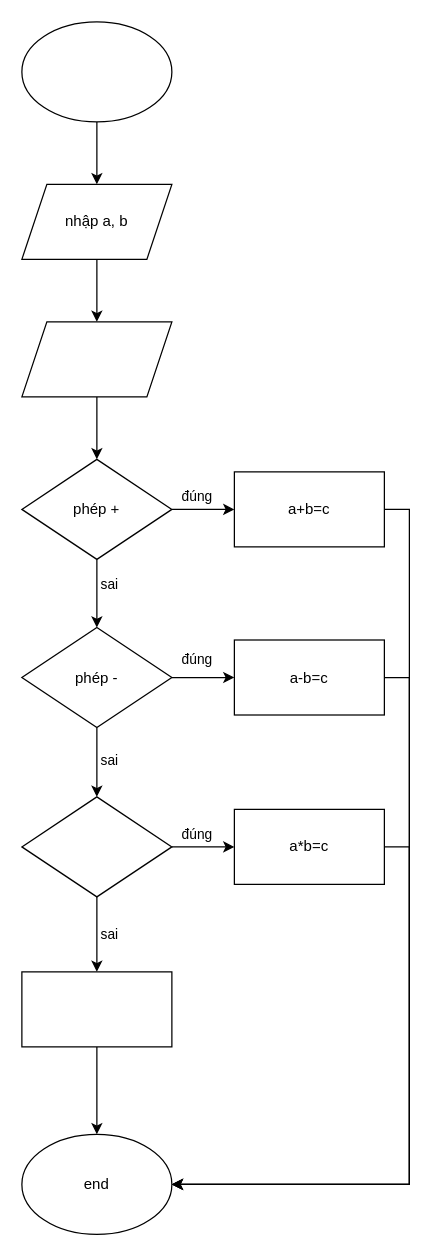
Some shapes in this 441 by 1256 pixel diagram are drawn without their labels. Each missing label, with the box of its shape:
a/b=c: (21, 971, 172, 1047)
nhập phép tính (+, -, *, /): (21, 321, 172, 397)
phép *: (21, 796, 172, 897)
start: (21, 21, 172, 122)
